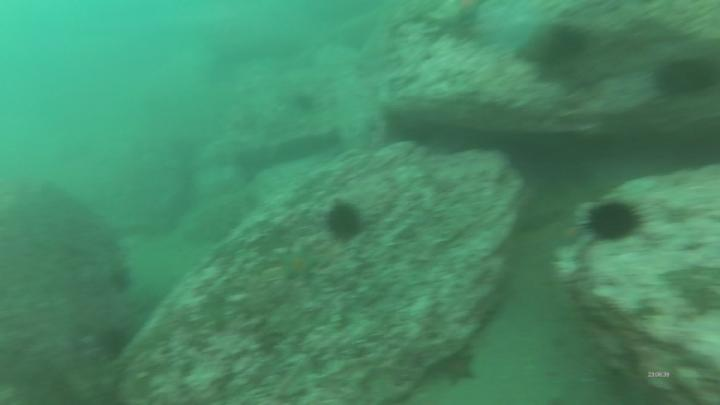echinus: (661, 52, 718, 102), (587, 198, 643, 244), (322, 198, 370, 245)
starfish: (434, 350, 484, 384), (275, 249, 323, 284)
